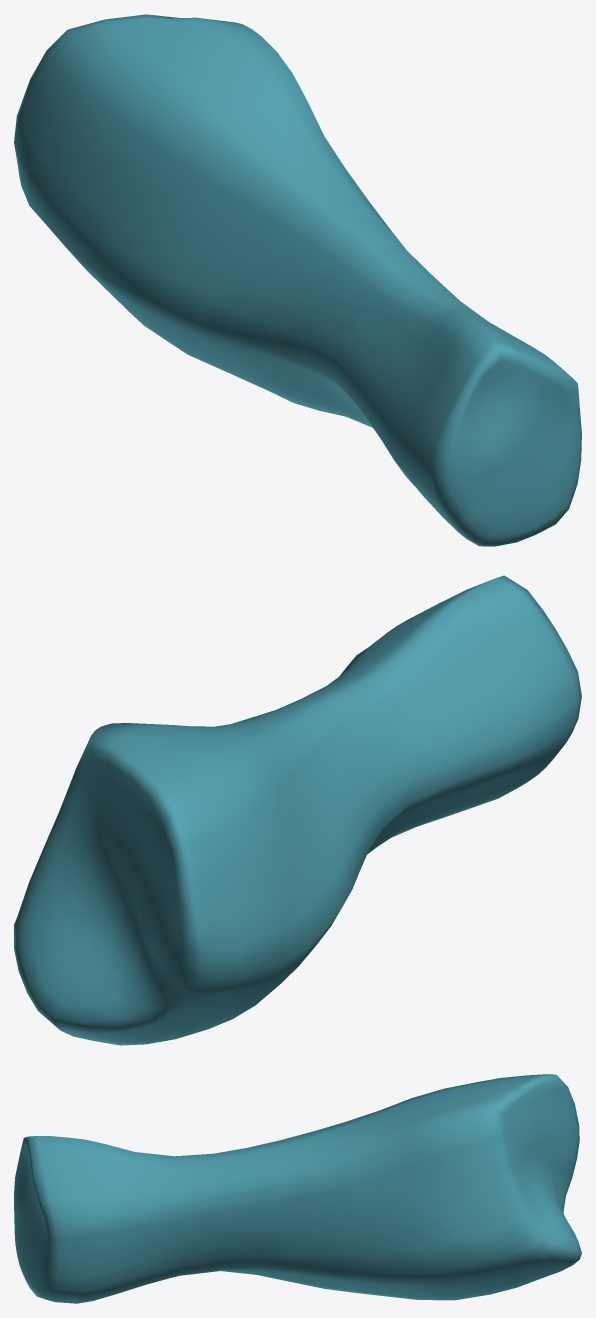
File: VIS_Alpha_Surface_005.dae
3 views of the same model, one above another, from view 1: azimuth 30°, elevation 25°; view 2: azimuth 150°, elevation 25°; view 3: azimuth 270°, elevation 25° (orthographic). The views are drawn at different scales.
Visible parts, largest first — view 1: VIS_Alpha_Surface_005; view 2: VIS_Alpha_Surface_005; view 3: VIS_Alpha_Surface_005.
Part boxes in pixels (x1,y1,x2,y2): VIS_Alpha_Surface_005: (14,14,581,546); VIS_Alpha_Surface_005: (14,575,581,1045); VIS_Alpha_Surface_005: (14,1074,581,1303).
Bounding box in the file's own units: 14.44 × 42.12 × 17.14.
